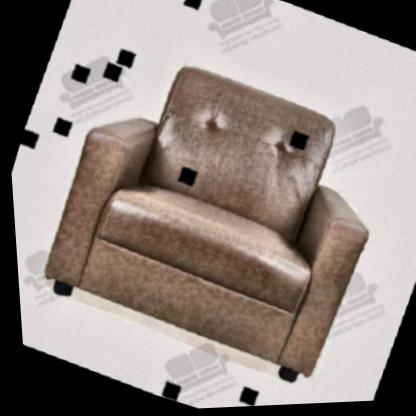Sofa: (22, 33, 406, 393)
